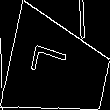L_E: (36, 48, 81, 91)
